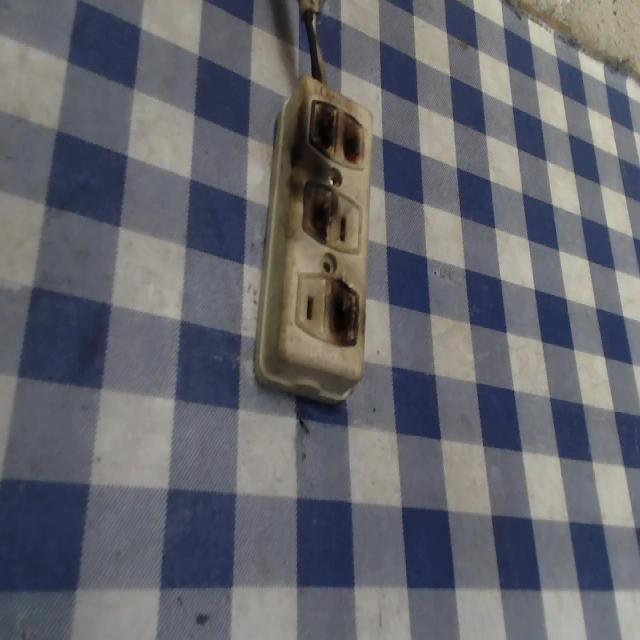-: (304, 100, 365, 168), (324, 272, 364, 353), (300, 176, 333, 244)
